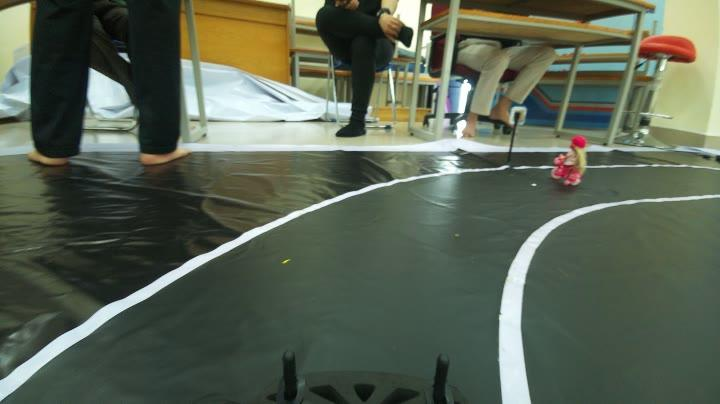pedestrian: (554, 129, 592, 188)
